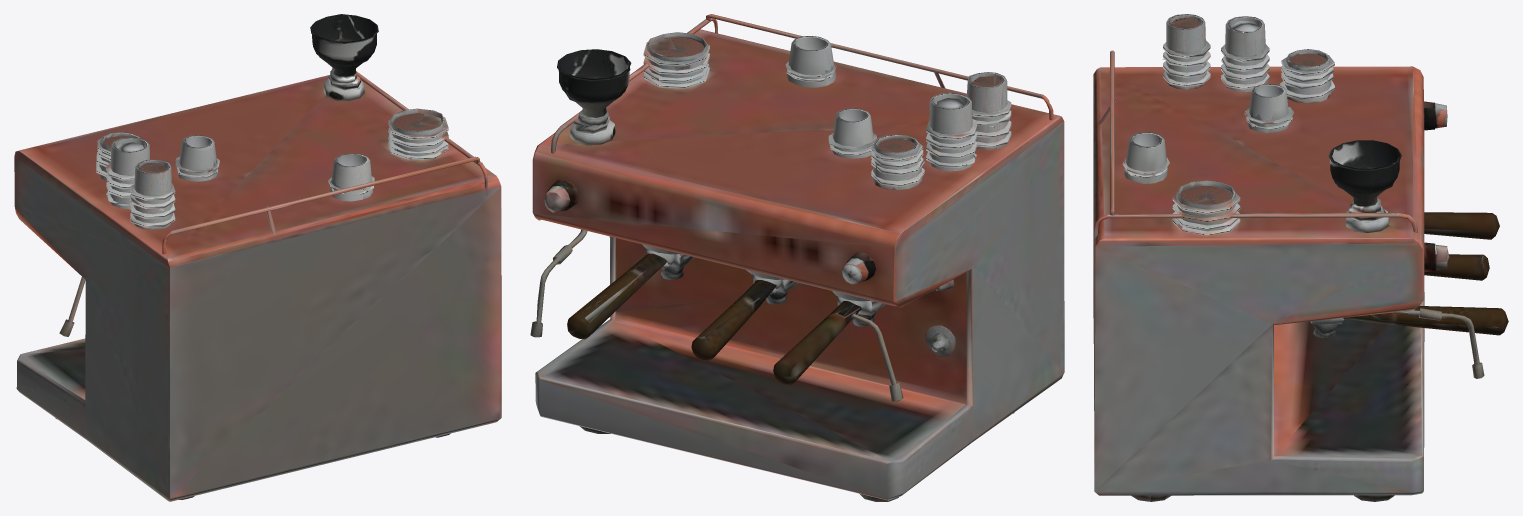
The model's file is office-espresso-machine.glb.
3 views of the same model, side by side, from view 1: azimuth 30°, elevation 25°; view 2: azimuth 150°, elevation 25°; view 3: azimuth 270°, elevation 25° (orthographic). The views are drawn at different scales.
Parts seen in each view (by area): view 1: espresso-machine; view 2: espresso-machine; view 3: espresso-machine.
Boxes of the visible parts, <box> form: espresso-machine: <box>14,14,501,501</box>; espresso-machine: <box>530,14,1064,501</box>; espresso-machine: <box>1093,14,1508,501</box>.
Size of the model in its own units: 1.4 by 1.29 by 1.41.
1 material, 1 textured.
